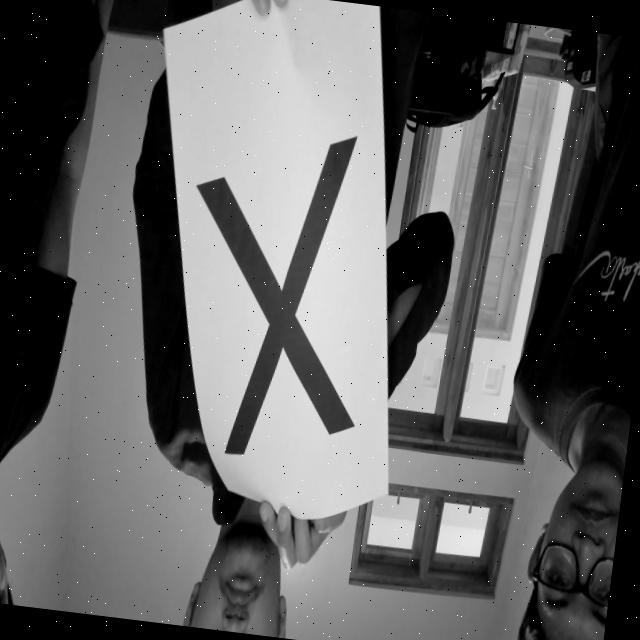x: (138, 60, 402, 475)
